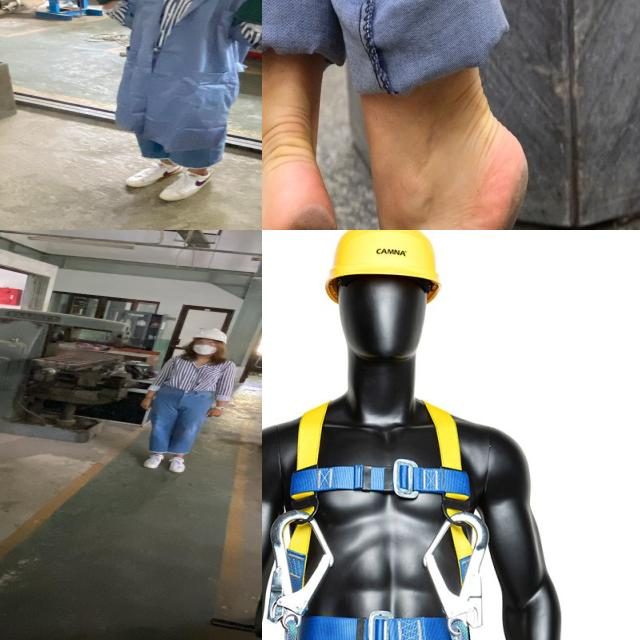Barefoots: (339, 124, 529, 230)
Harness: (269, 397, 486, 640)
face_mask: (191, 339, 221, 355)
glasses: (190, 341, 219, 346)
hand_noglove: (203, 406, 226, 418), (137, 398, 155, 411)
head_helmet: (192, 328, 230, 342)
person: (54, 0, 262, 205), (136, 326, 250, 476)
shoes: (151, 162, 218, 202), (112, 153, 187, 188), (141, 452, 168, 471), (166, 454, 188, 473)
